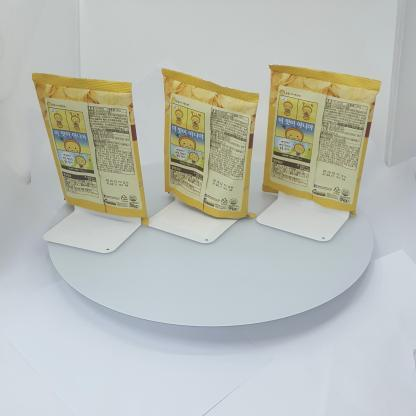Plastic Packaging: (26, 59, 150, 225), (262, 64, 380, 218), (160, 67, 258, 219)
